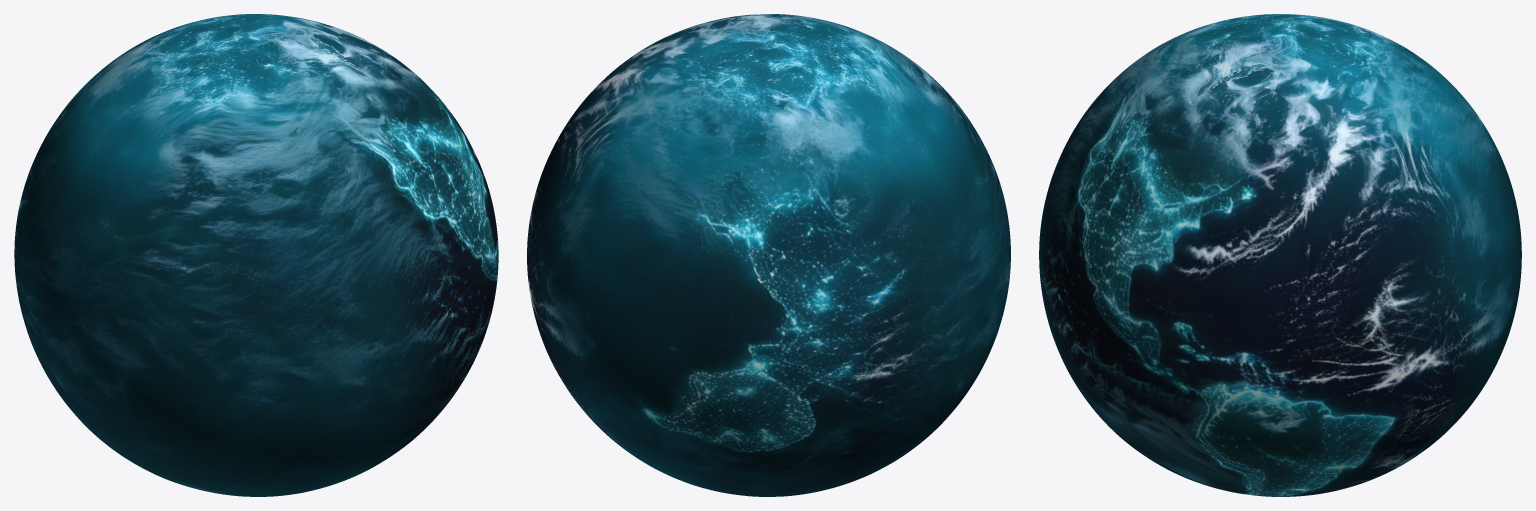
Rendered from Earth.glb.
3 renders of one model, left to right at view 1: azimuth 30°, elevation 25°; view 2: azimuth 150°, elevation 25°; view 3: azimuth 270°, elevation 25°, orthographic.
Visible parts, largest first — view 1: node_0; view 2: node_0; view 3: node_0.
Boxes of the visible parts, bbox=[...] form: node_0: bbox=[14, 14, 498, 496]; node_0: bbox=[527, 14, 1010, 496]; node_0: bbox=[1039, 14, 1521, 496].
Bounding box in the file's own units: 1.19 × 1.19 × 1.19.
Materials: 1 (1 with a texture image).
